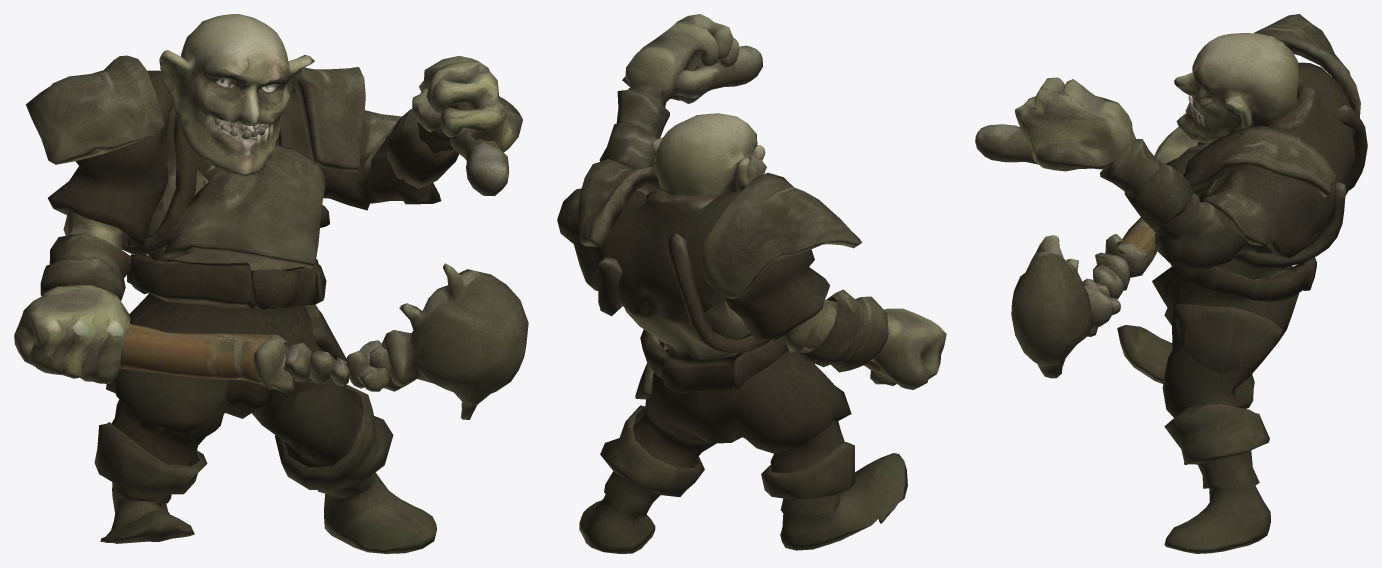
The model's file is prowlers.glb.
3 renders of one model, left to right at view 1: azimuth 30°, elevation 25°; view 2: azimuth 150°, elevation 25°; view 3: azimuth 270°, elevation 25°, orthographic. The views are drawn at different scales.
Bounding box in the file's own units: 0.8305 × 1 × 0.7842.
Materials: 1 (1 with a texture image).
